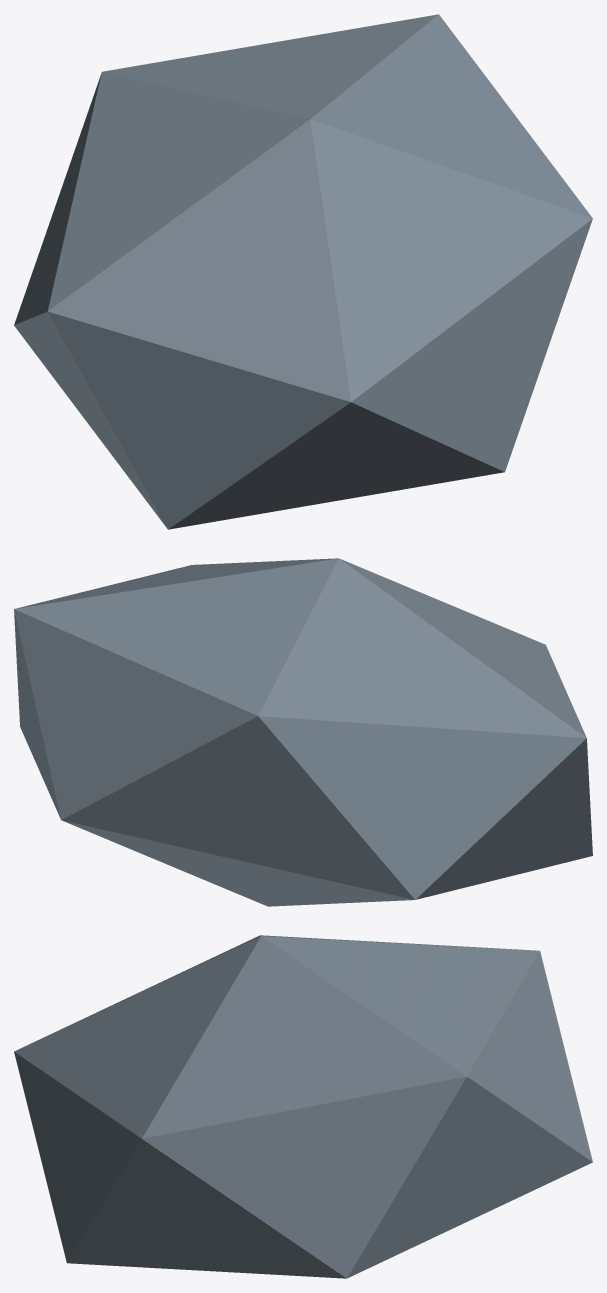
The model's file is INT_AB_RubbleSouth_00_Stone_3.glb.
3 renders of one model, top to bottom at view 1: azimuth 30°, elevation 25°; view 2: azimuth 150°, elevation 25°; view 3: azimuth 270°, elevation 25°, orthographic. The views are drawn at different scales.
Visible parts, largest first — view 1: INT_AB_RubbleSouth_00_Stone_3; view 2: INT_AB_RubbleSouth_00_Stone_3; view 3: INT_AB_RubbleSouth_00_Stone_3.
Boxes of the visible parts, box(x1,y1,x2,y2) form: INT_AB_RubbleSouth_00_Stone_3: box(14, 14, 592, 529); INT_AB_RubbleSouth_00_Stone_3: box(14, 558, 592, 906); INT_AB_RubbleSouth_00_Stone_3: box(14, 935, 592, 1278).
Size of the model in its own units: 0.1637 by 0.097 by 0.1554.
